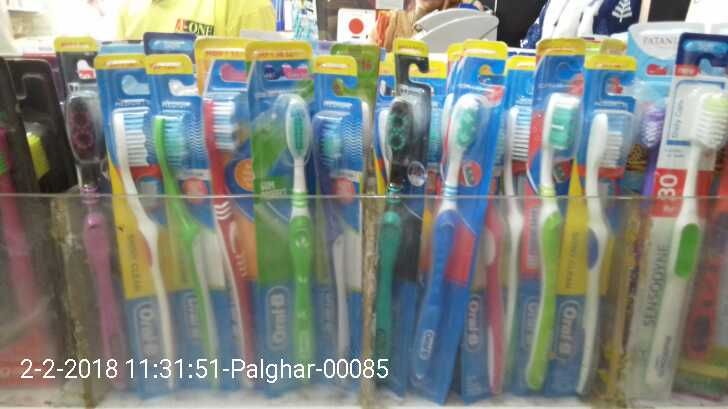oralb: (417, 92, 482, 408), (519, 86, 580, 398), (106, 75, 161, 394), (150, 112, 212, 384), (255, 108, 318, 372), (361, 104, 418, 389), (203, 95, 255, 383), (308, 110, 356, 375)
